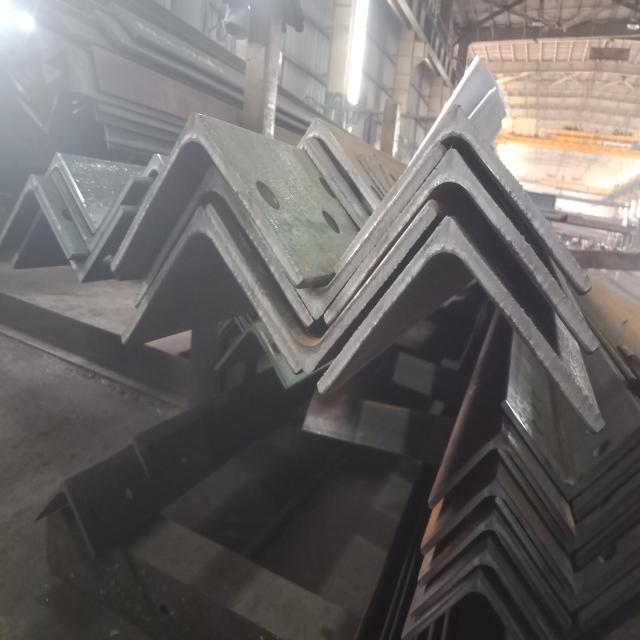metal-angles: (316, 214, 605, 433), (324, 148, 600, 353), (333, 103, 591, 292), (204, 197, 439, 373), (112, 111, 304, 288), (121, 206, 302, 376), (136, 164, 313, 326), (418, 511, 572, 631), (420, 477, 576, 593), (496, 498, 640, 614), (428, 429, 577, 539), (498, 448, 640, 553), (502, 400, 640, 501), (412, 547, 552, 639), (403, 574, 524, 640), (52, 171, 133, 253), (1, 173, 75, 259)
